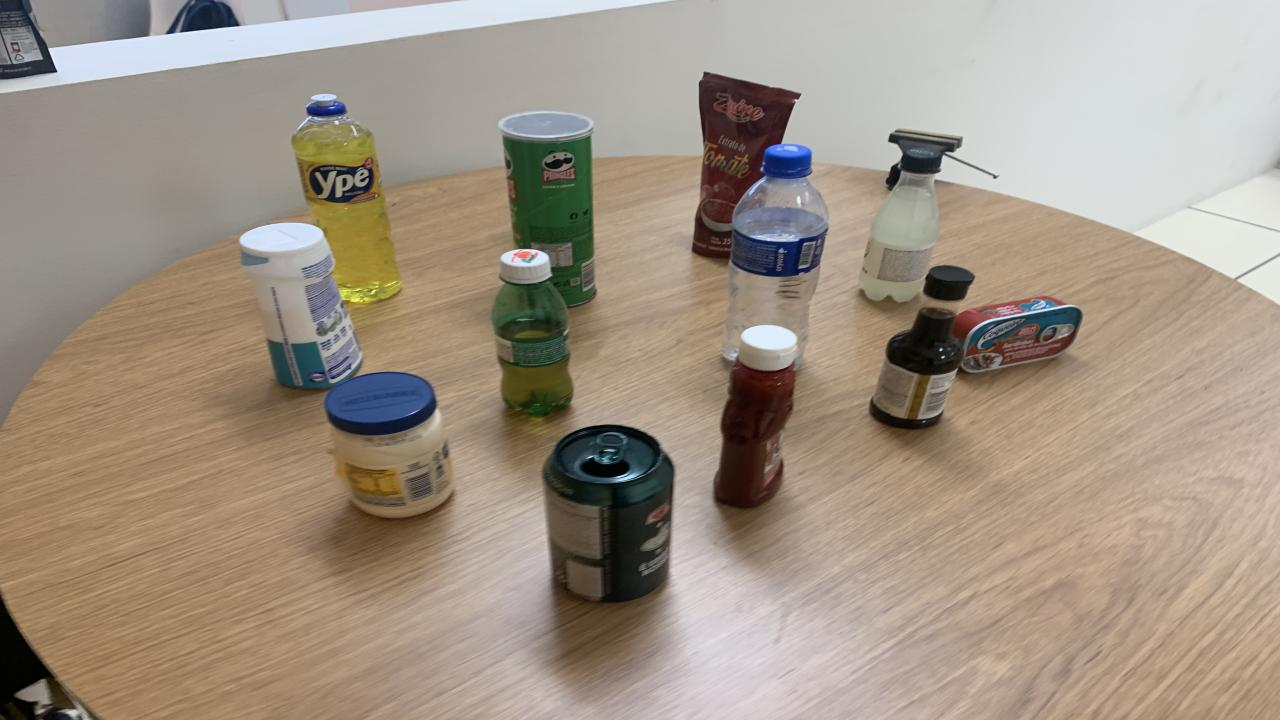Cleaner-Cleanup_Items: (240, 223, 362, 388)
Detergent-Cleanup_Items: (292, 94, 402, 304)
English_Sauce-Pantry_Items: (870, 266, 975, 428)
Guarana-Drinks: (492, 249, 572, 416)
Guarana_Can-Drinks: (542, 426, 675, 602)
Ketchup-Pantry_Items: (715, 324, 798, 508)
Mayonnaise-Pantry_Items: (325, 371, 455, 518)
Pringles-Snacks: (498, 111, 598, 306)
Soda-Drinks: (860, 150, 942, 302)
Tomato_Sauce-Pantry_Items: (692, 73, 800, 259)
Tuna_Can-Pantry_Items: (955, 296, 1082, 373)
Water_Bottle-Drinks: (722, 144, 830, 366)
